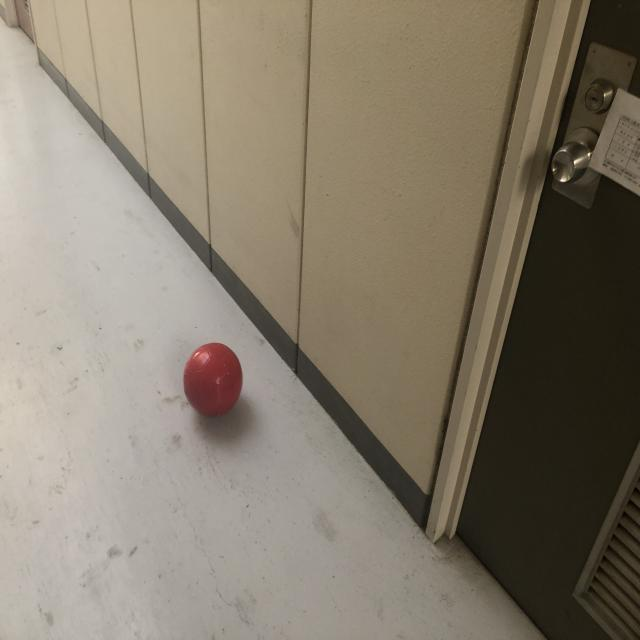red_ball: (184, 342, 243, 417)
